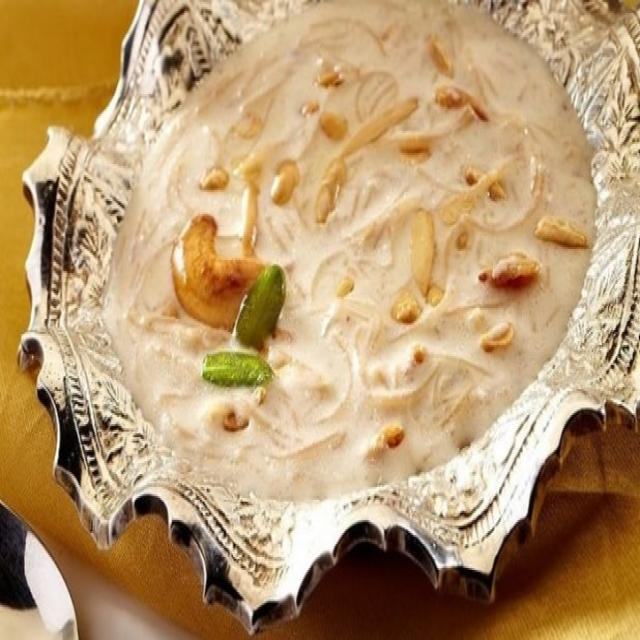shavige payasa: (94, 0, 607, 522)
